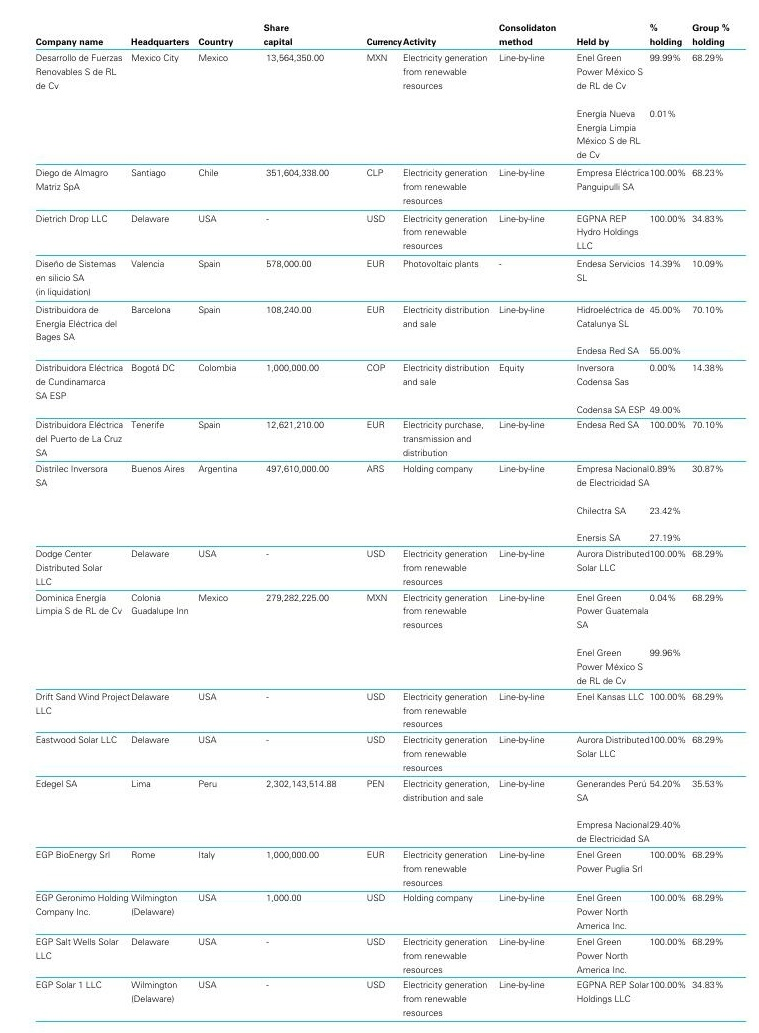table: (0, 0, 759, 1033)
